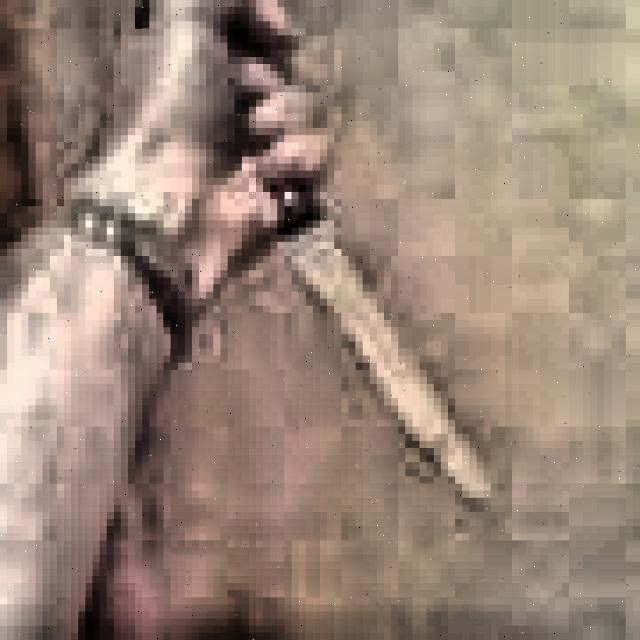knife: (135, 0, 484, 498)
